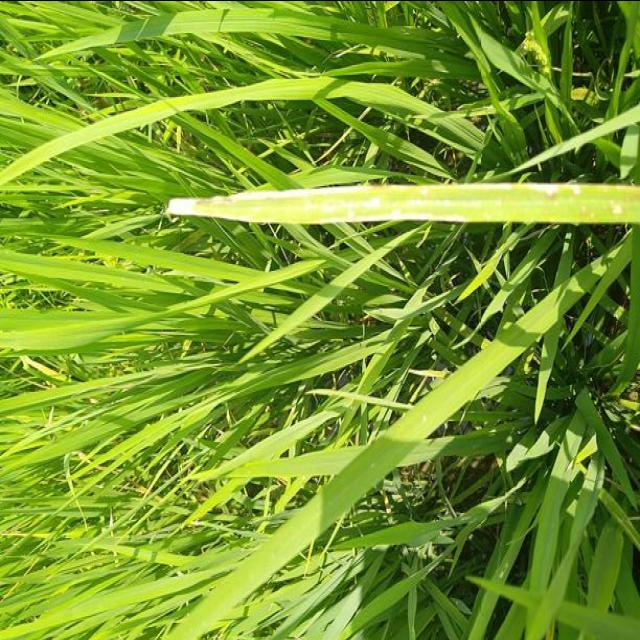Leaf Blight: (167, 182, 596, 223)
